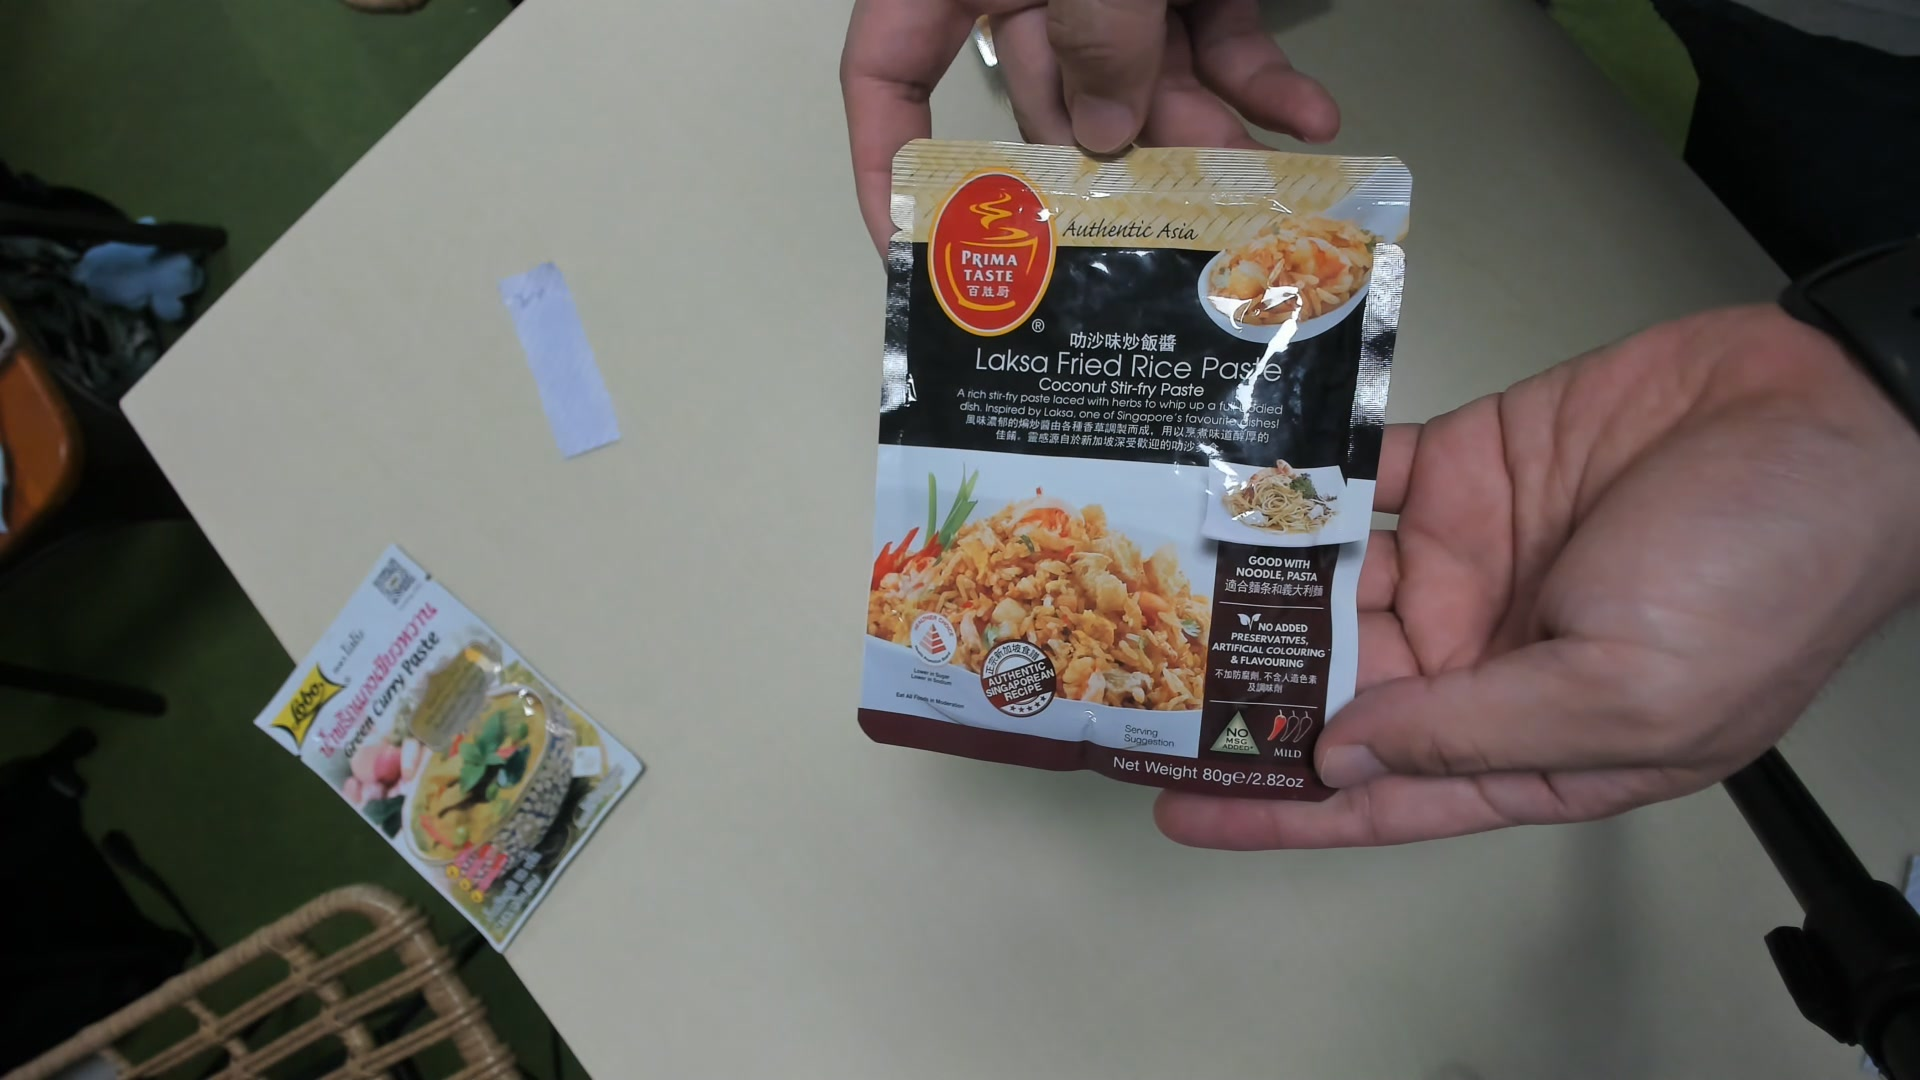OtherSauceDressing_0-99g_Halal_NonHealthy: (856, 132, 1404, 803)
